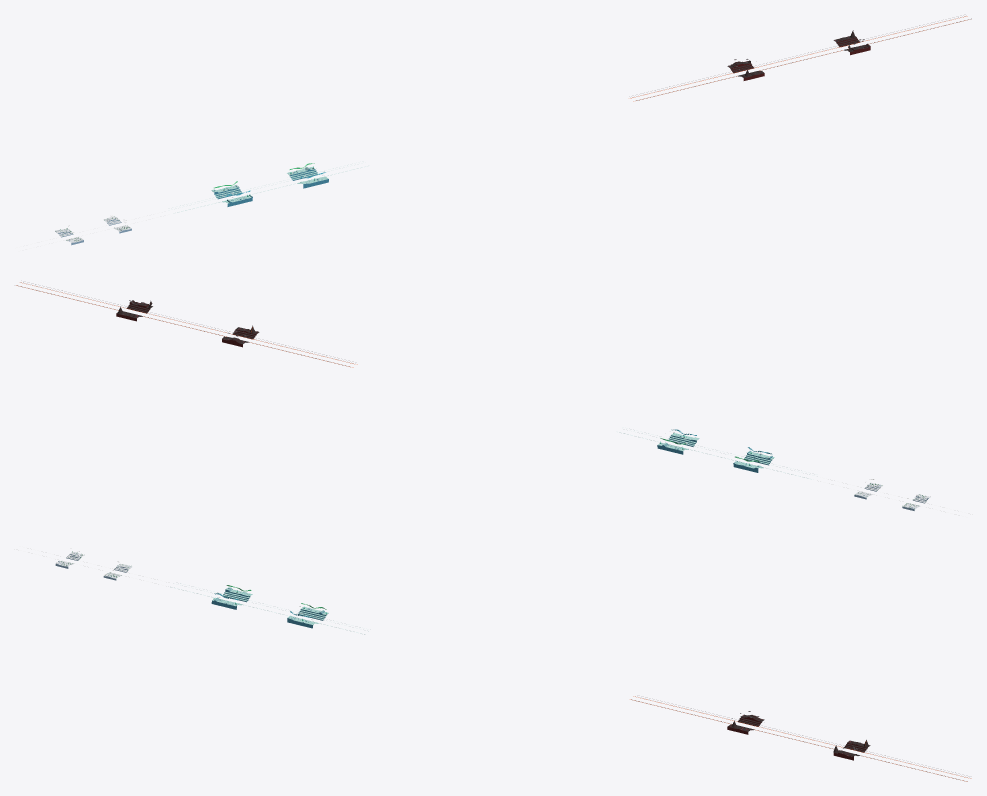
Rendered from MapPatch.glb.
The picture shows the model from 3 angles, top to bottom: view 1: azimuth 30°, elevation 25°; view 2: azimuth 150°, elevation 25°; view 3: azimuth 330°, elevation 25°; orthographic projection.
Parts seen in each view (by area): view 1: 12_Aurora_Peaks_06, 12_Aurora_Peaks_03; view 2: 12_Aurora_Peaks_03, 12_Aurora_Peaks_06; view 3: 12_Aurora_Peaks_06, 12_Aurora_Peaks_03.
Boxes of the visible parts, <box> form: 12_Aurora_Peaks_06: <box>287,163,328,188</box>; 12_Aurora_Peaks_03: <box>211,181,252,206</box>; 12_Aurora_Peaks_03: <box>733,447,774,472</box>; 12_Aurora_Peaks_06: <box>657,429,699,454</box>; 12_Aurora_Peaks_06: <box>287,603,328,628</box>; 12_Aurora_Peaks_03: <box>211,585,252,609</box>.
Bounding box in the file's own units: 8520 × 81.87 × 257.
Materials: 1 (1 with a texture image).
